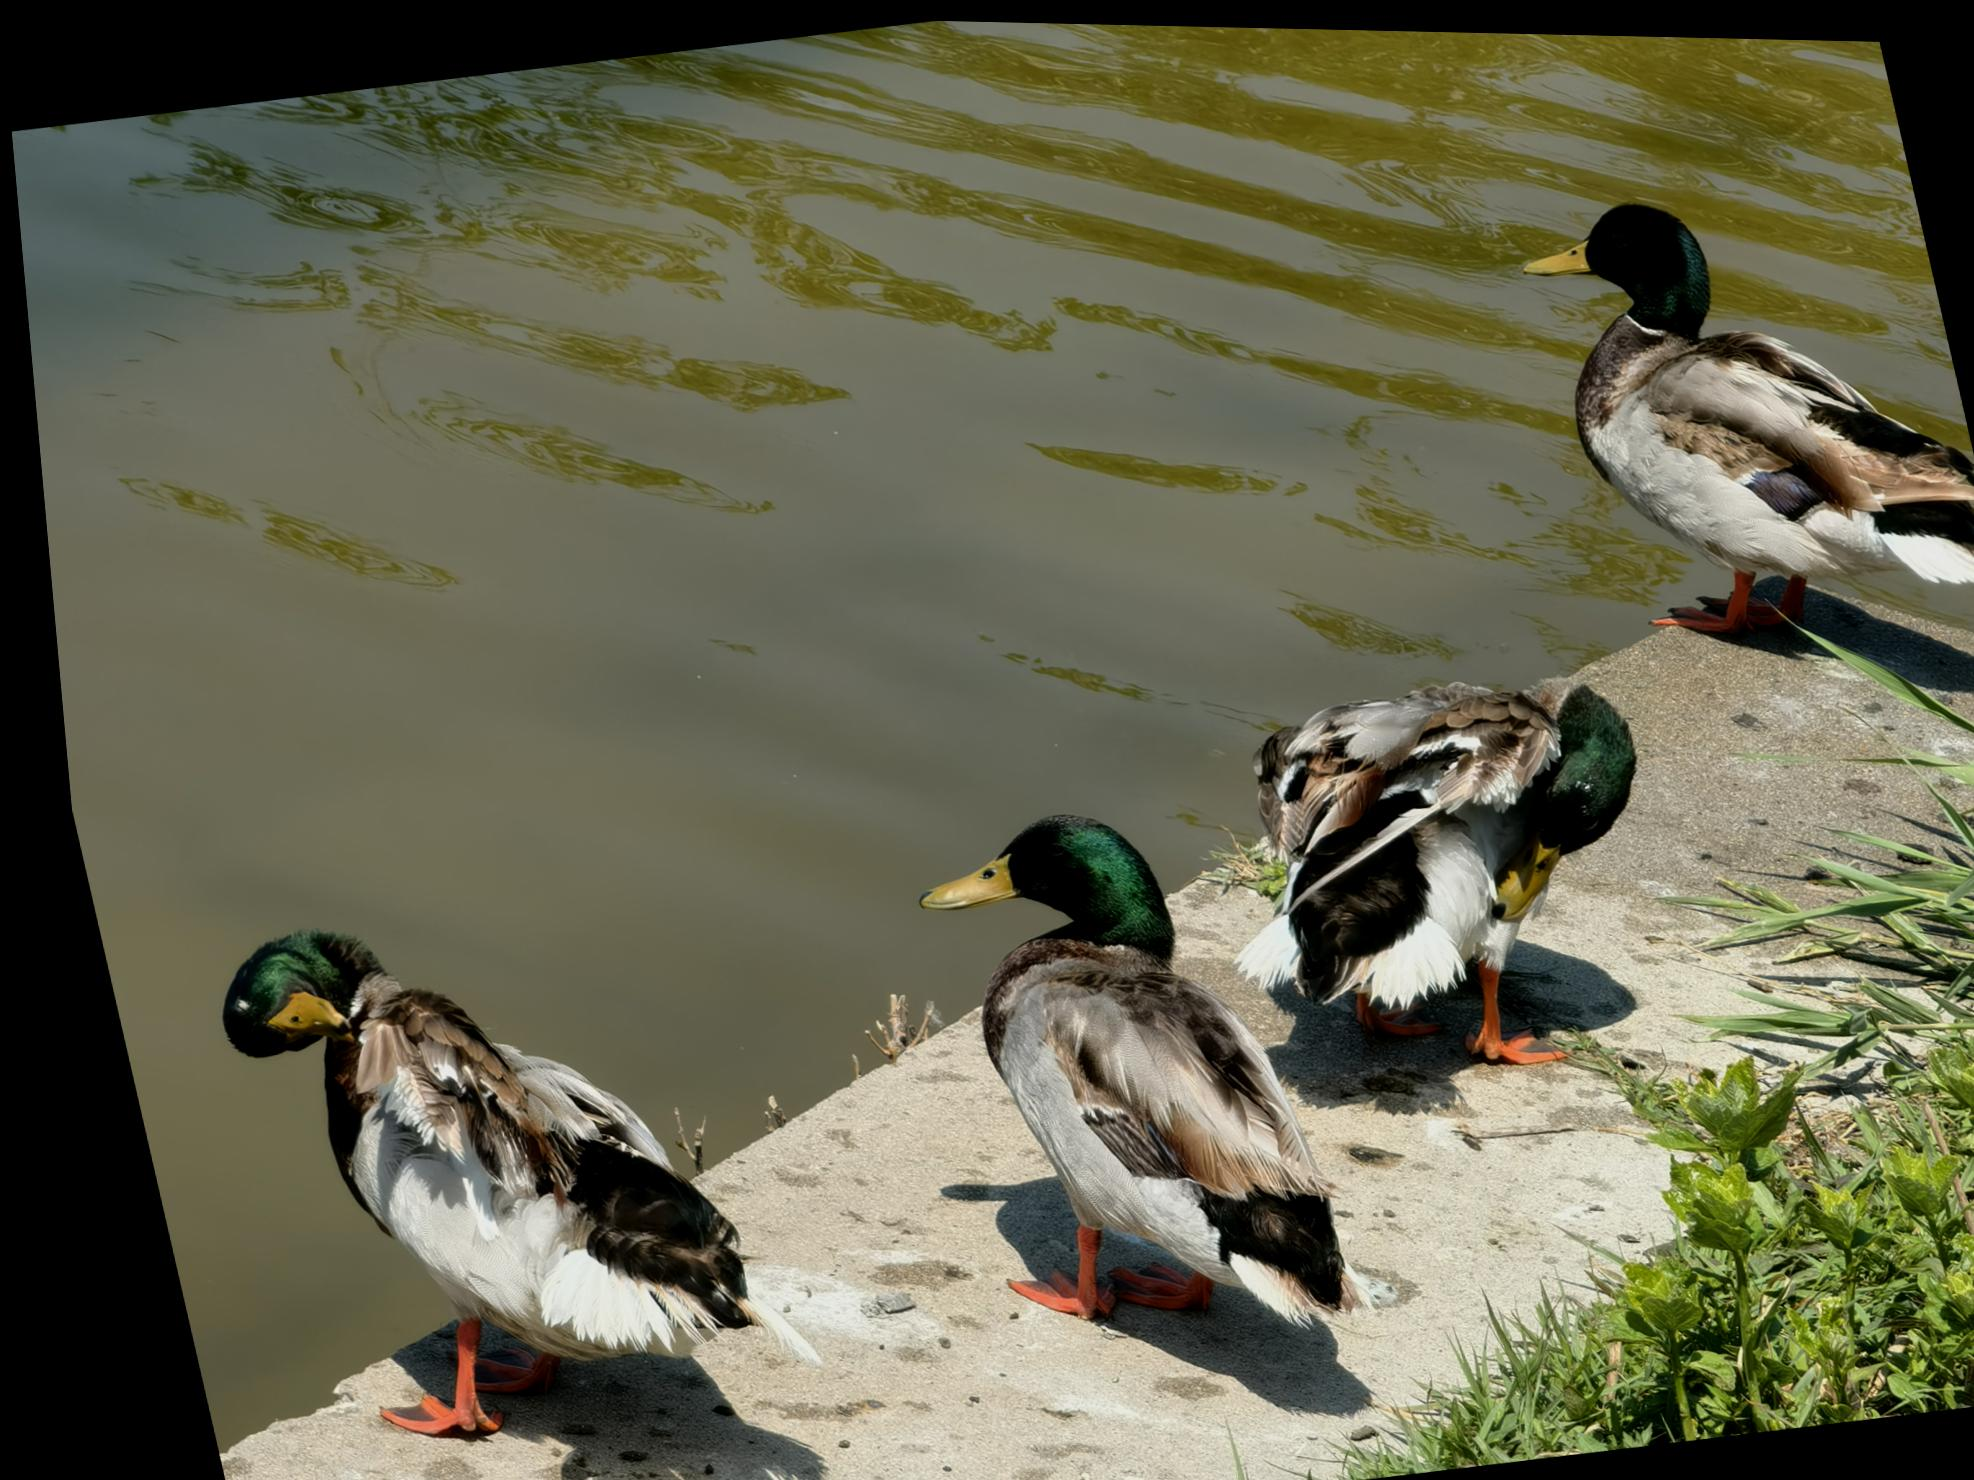duck: (168, 871, 762, 1480), (863, 765, 1343, 1357), (1484, 136, 1974, 659), (1164, 657, 1693, 1115)
